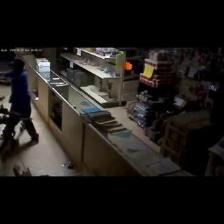person: (1, 59, 31, 141)
